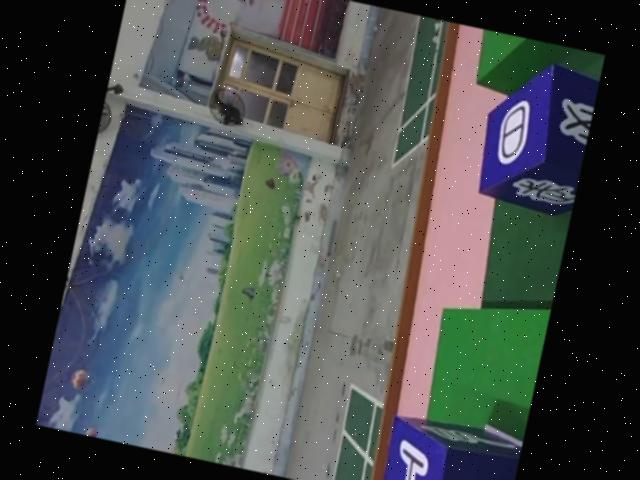R2 Fake Blue: (473, 51, 602, 217), (377, 405, 524, 480)
